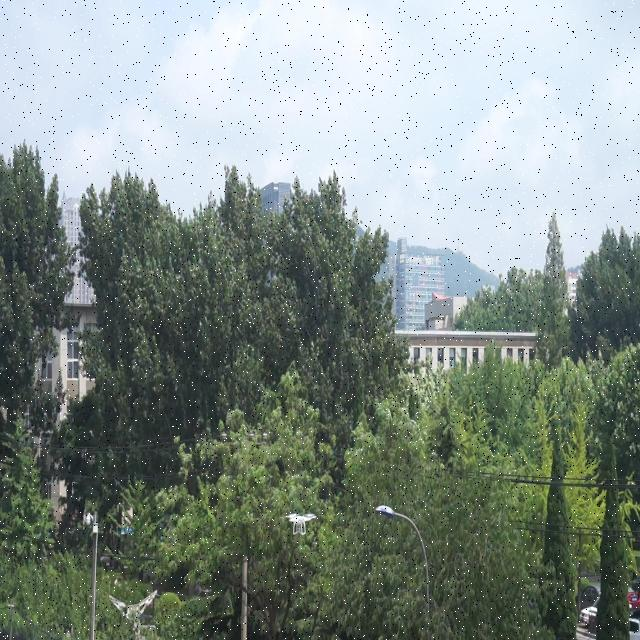UAV: (286, 513, 316, 535)
